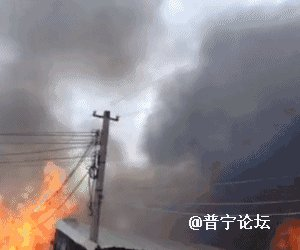fire: (2, 161, 78, 246)
smoke: (104, 10, 294, 219)
